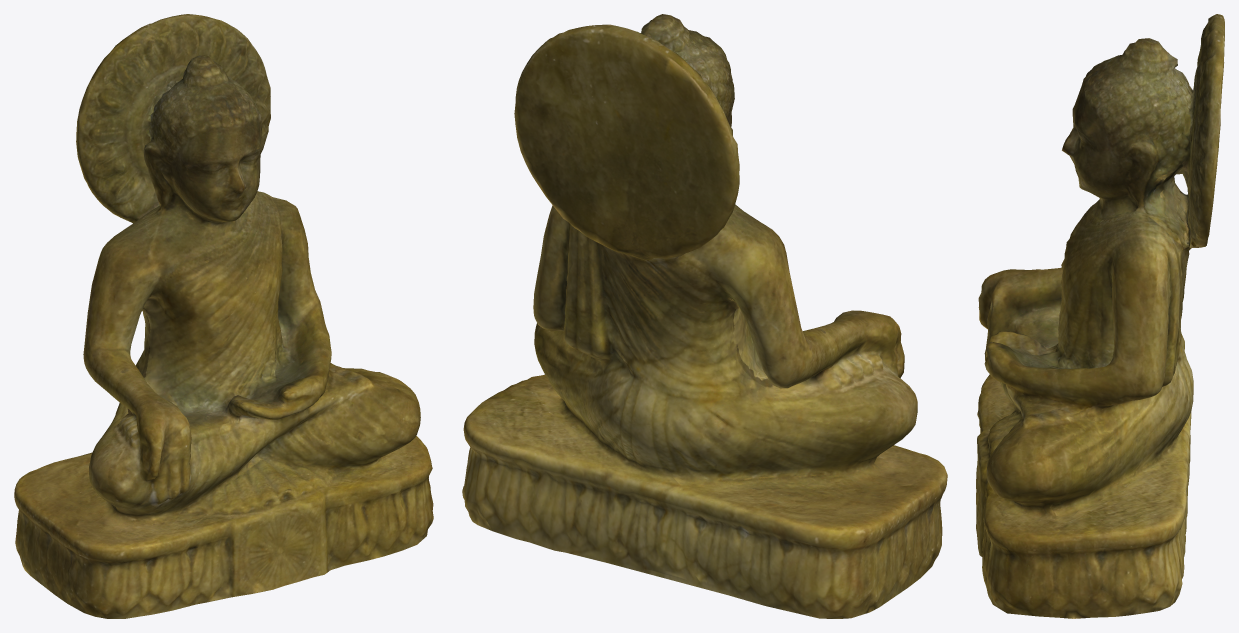
The model's file is open_source_buddha.glb.
3 renders of one model, left to right at view 1: azimuth 30°, elevation 25°; view 2: azimuth 150°, elevation 25°; view 3: azimuth 270°, elevation 25°, orthographic. The views are drawn at different scales.
Parts seen in each view (by area): view 1: model_dense_mesh_texture.mmgs.iterativemethod_modeldensemesh; view 2: model_dense_mesh_texture.mmgs.iterativemethod_modeldensemesh; view 3: model_dense_mesh_texture.mmgs.iterativemethod_modeldensemesh.
Part boxes in pixels (x1,y1,x2,y2): model_dense_mesh_texture.mmgs.iterativemethod_modeldensemesh: [14, 14, 433, 618]; model_dense_mesh_texture.mmgs.iterativemethod_modeldensemesh: [462, 14, 947, 618]; model_dense_mesh_texture.mmgs.iterativemethod_modeldensemesh: [976, 14, 1224, 618].
Size of what is drawn, in the model's own units: 69.62 by 89.51 by 39.5.
1 material, 1 textured.
